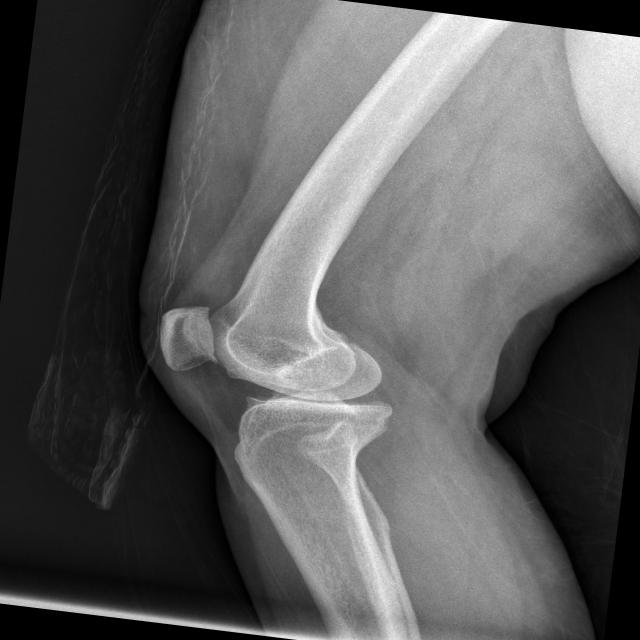Knee: (144, 297, 410, 474)
